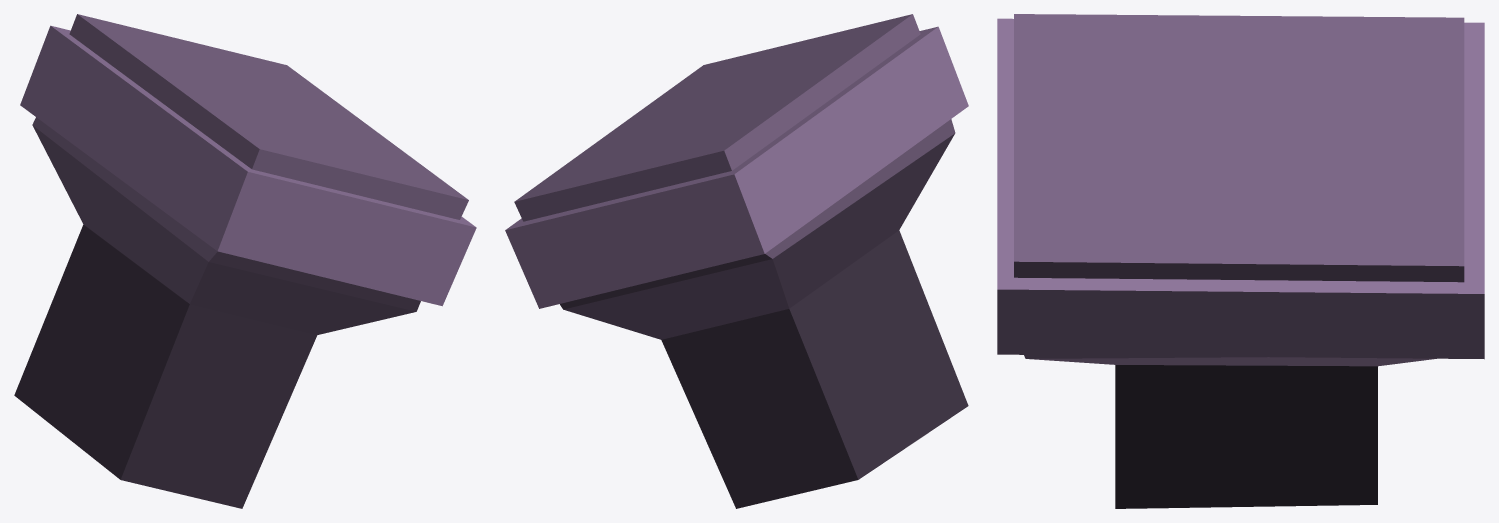
File: fusionCheck.fbx
3 views of the same model, side by side, from view 1: azimuth 30°, elevation 25°; view 2: azimuth 150°, elevation 25°; view 3: azimuth 270°, elevation 25° (orthographic). The views are drawn at different scales.
Visible parts, largest first — view 1: fusionCheck; view 2: fusionCheck; view 3: fusionCheck.
Boxes of the visible parts, bbox=[...] form: fusionCheck: bbox=[14, 14, 476, 508]; fusionCheck: bbox=[505, 14, 968, 508]; fusionCheck: bbox=[997, 14, 1484, 508].
Bounding box in the file's own units: 3.1 × 3.77 × 3.46.
